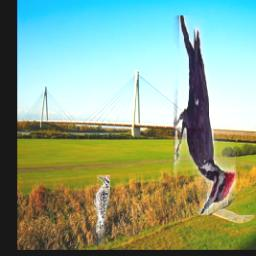Woodpecker: (175, 15, 237, 215), (95, 175, 111, 245)
